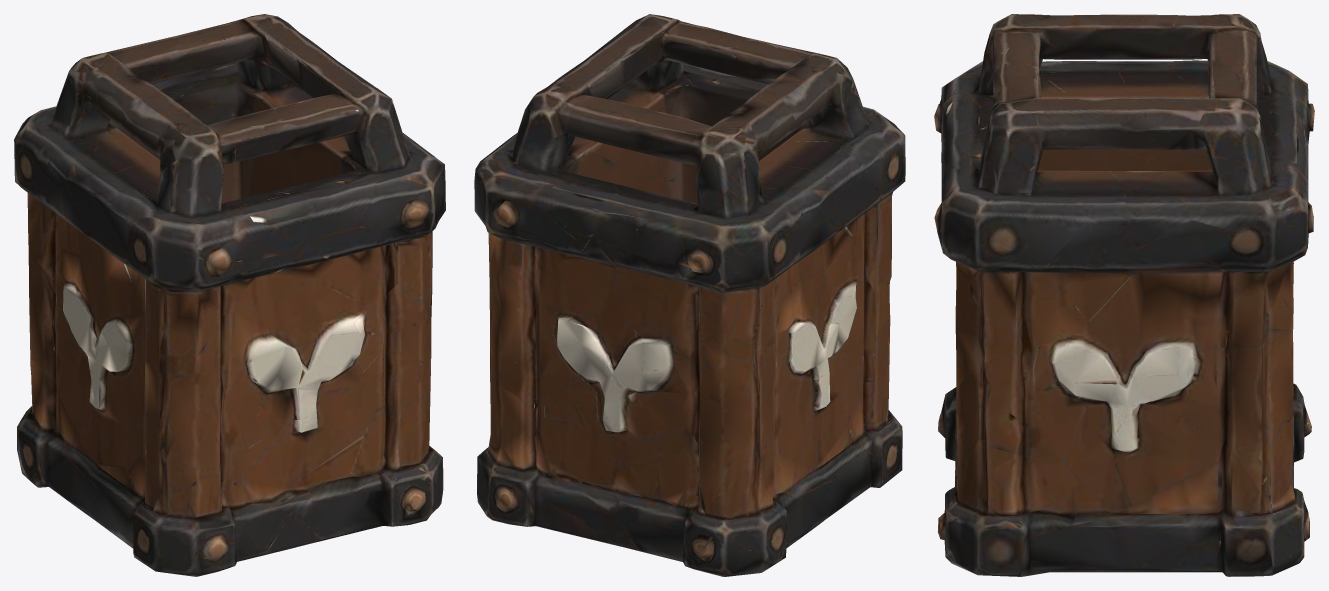
The model's file is crate-bin.glb.
The picture shows the model from 3 angles, left to right: view 1: azimuth 30°, elevation 25°; view 2: azimuth 150°, elevation 25°; view 3: azimuth 270°, elevation 25°; orthographic projection. The views are drawn at different scales.
Bounding box in the file's own units: 1.42 × 1.9 × 1.48.
1 material, 1 textured.
